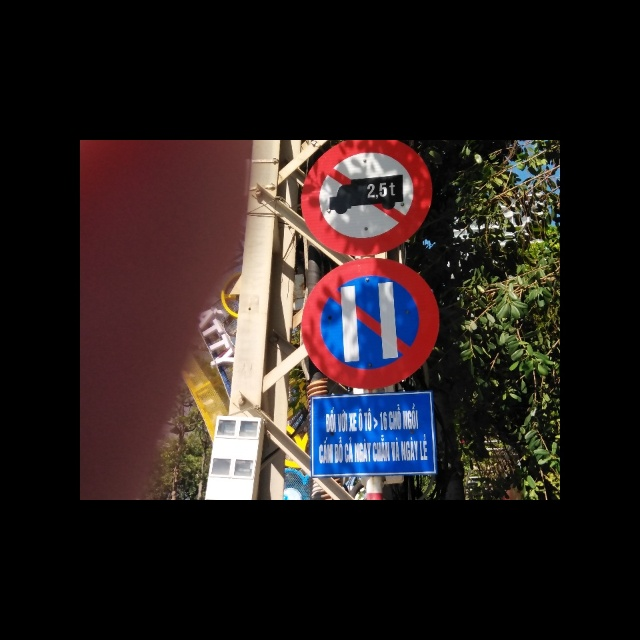Cấm xe tải: (302, 140, 434, 257)
Cấm đỗ xe ngày chẵn: (296, 260, 443, 392)
